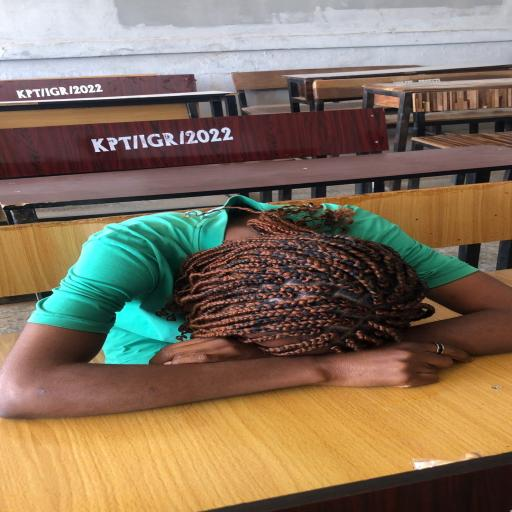Sleeping: (1, 190, 512, 420)
